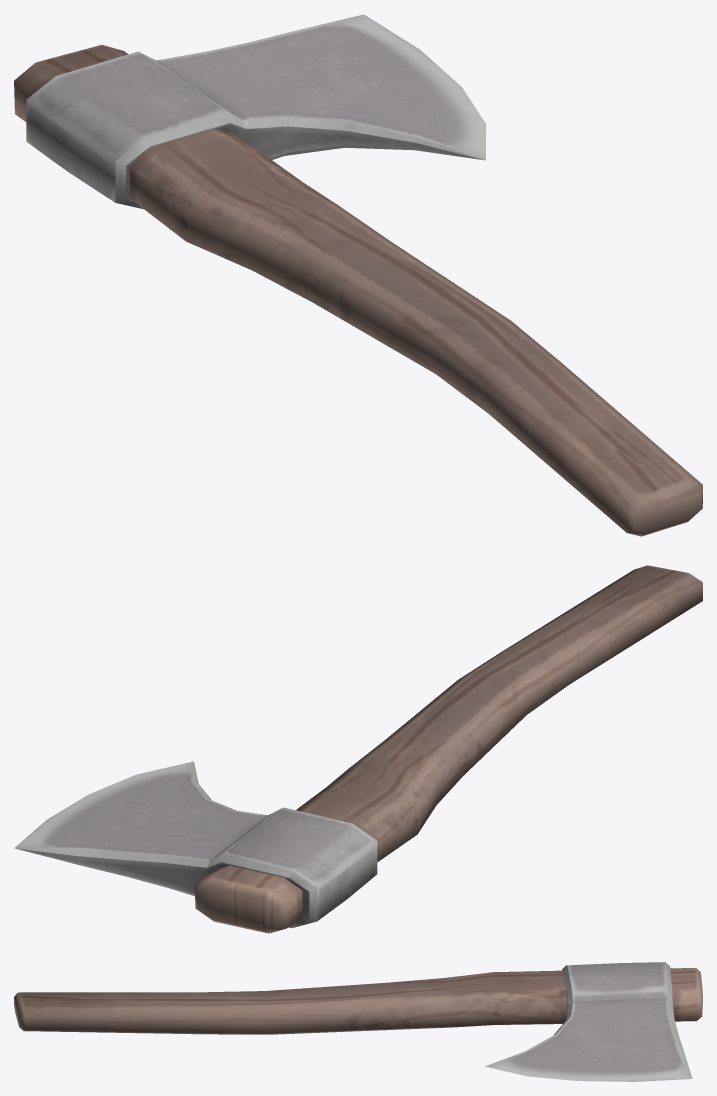
3 renders of one model, top to bottom at view 1: azimuth 30°, elevation 25°; view 2: azimuth 150°, elevation 25°; view 3: azimuth 270°, elevation 25°, orthographic. The views are drawn at different scales.
Visible parts, largest first — view 1: submesh_0; view 2: submesh_0; view 3: submesh_0.
Part boxes in pixels (x1,y1,x2,y2): submesh_0: (14, 14, 702, 536); submesh_0: (14, 565, 702, 933); submesh_0: (14, 962, 702, 1081).
Size of the model in its own units: 0.2461 by 0.051 by 0.6713.
Materials: 1 (1 with a texture image).
